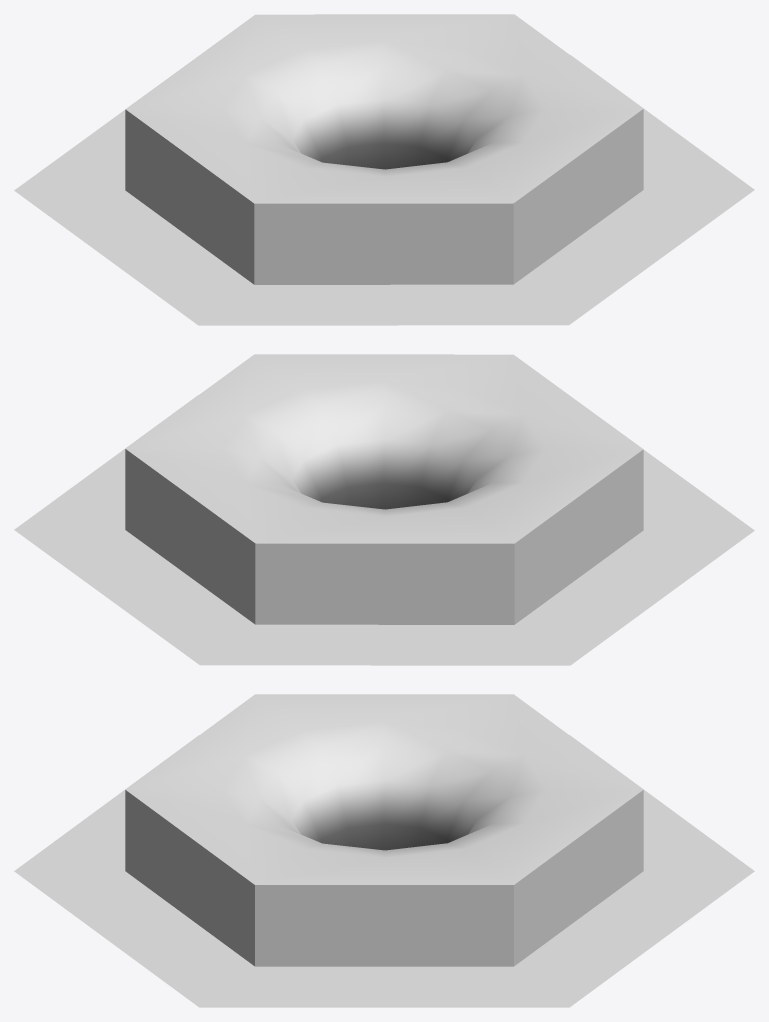
Rendered from Hex_Hole.fbx.
The picture shows the model from 3 angles, top to bottom: view 1: azimuth 30°, elevation 25°; view 2: azimuth 150°, elevation 25°; view 3: azimuth 270°, elevation 25°; orthographic projection.
Parts seen in each view (by area): view 1: Hex1_Hole; view 2: Hex1_Hole; view 3: Hex1_Hole.
Part boxes in pixels (x1,y1,x2,y2): Hex1_Hole: (14, 14, 754, 325); Hex1_Hole: (14, 354, 754, 665); Hex1_Hole: (14, 694, 754, 1007).
Size of the model in its own units: 1.44 by 0.2946 by 1.65.
